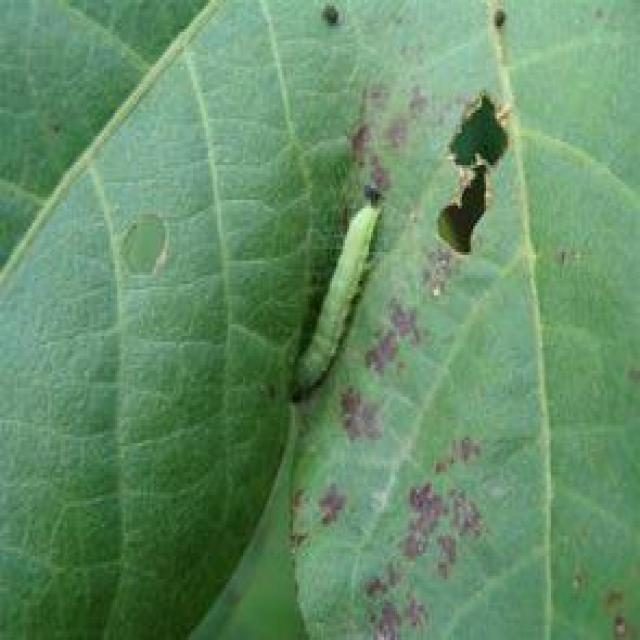BeetArmyWorm-Larva-: (285, 201, 391, 400)
